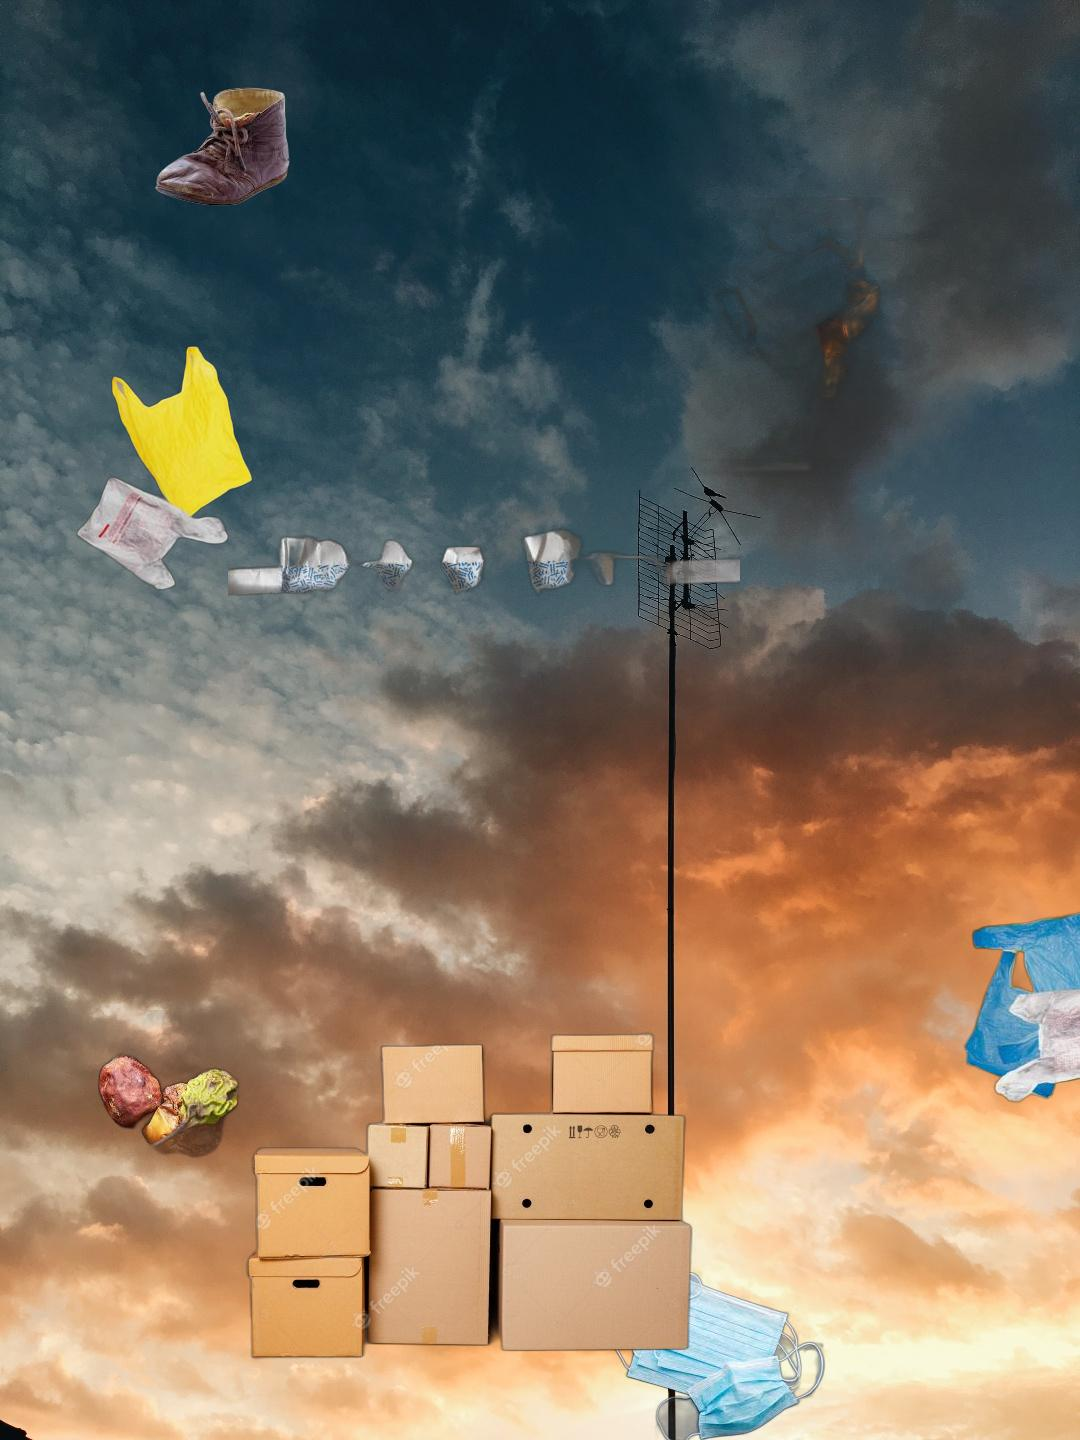biological: (7, 1010, 262, 1204)
paper: (228, 526, 740, 652)
plastic-bag: (74, 344, 255, 592), (962, 889, 1080, 1106)
shoes: (154, 85, 293, 207)
trash: (599, 1271, 827, 1440)
trashbox-cardboard: (242, 1030, 697, 1362), (692, 197, 1080, 477)
